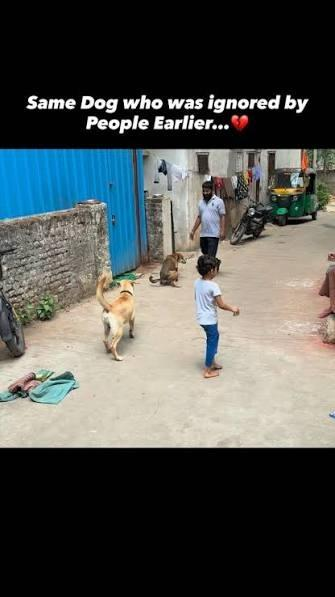adult_dog: (96, 273, 137, 363), (146, 251, 186, 287)
non-dog: (192, 251, 241, 379), (190, 180, 227, 276)
